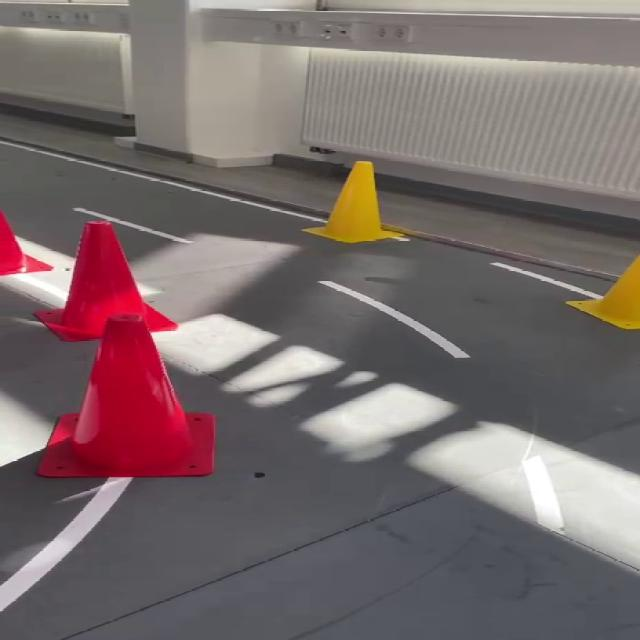Cone-red: (34, 221, 214, 478), (36, 221, 177, 341), (0, 212, 52, 276)
Cones-yellow: (34, 221, 214, 478), (302, 161, 404, 243), (566, 257, 639, 329)
